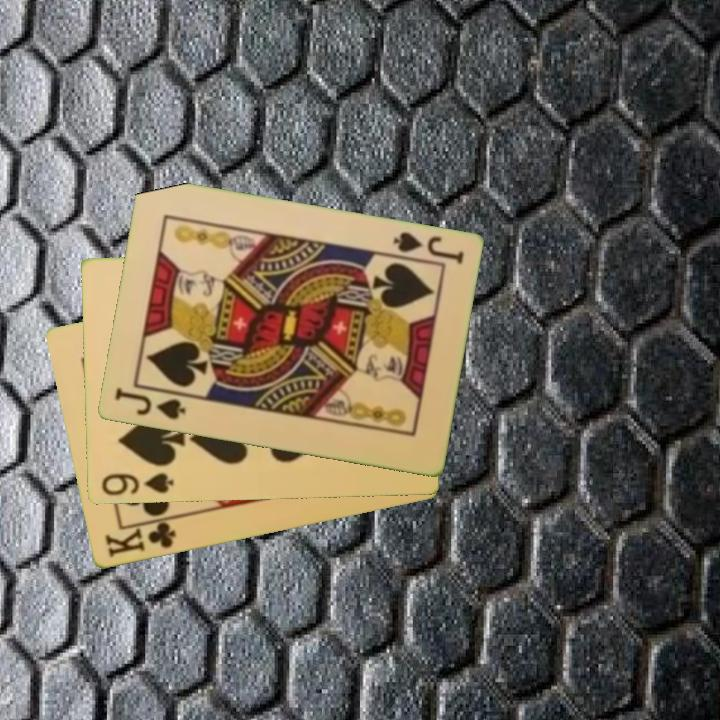9s: (97, 469, 176, 499)
Js: (111, 384, 188, 423), (389, 228, 466, 267)
Kc: (101, 515, 180, 561)
